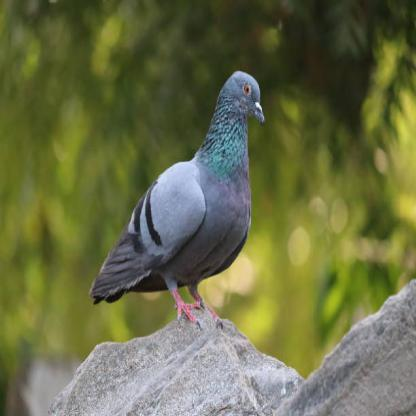Flying Rat: (85, 66, 270, 314)
